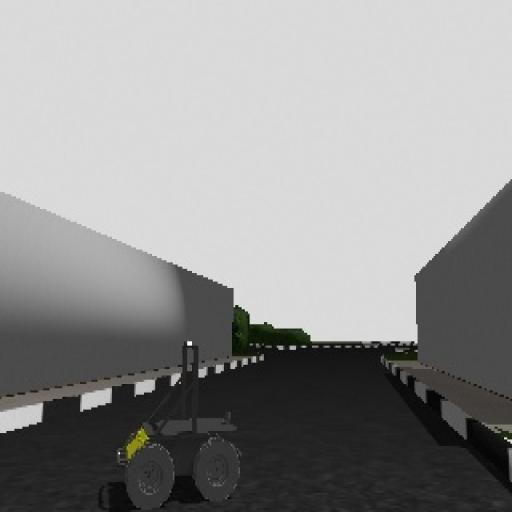huskya200: (101, 338, 261, 506)
